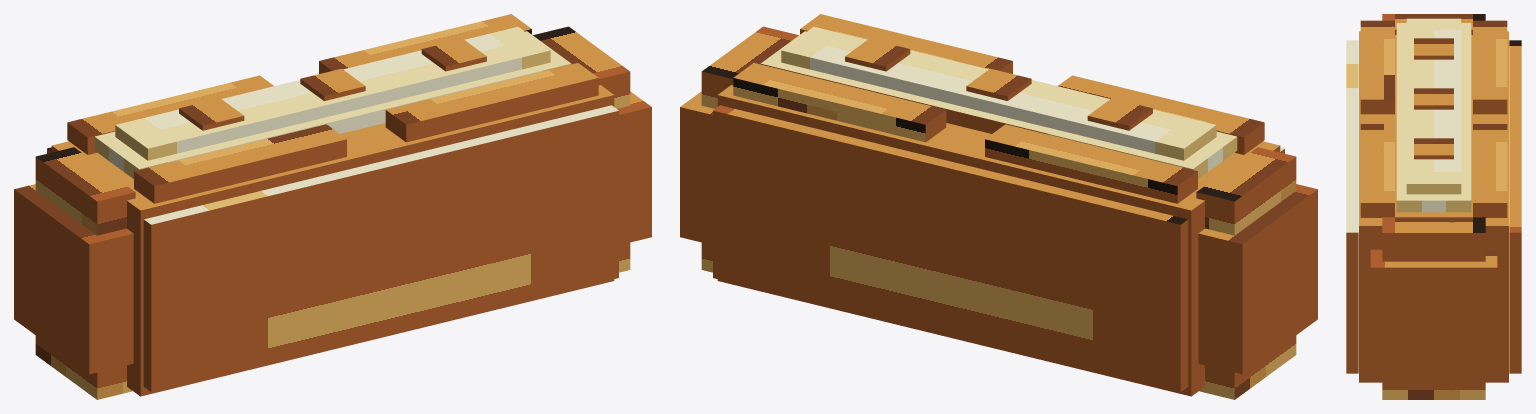
File: bread.gltf
The picture shows the model from 3 angles, left to right: view 1: azimuth 30°, elevation 25°; view 2: azimuth 150°, elevation 25°; view 3: azimuth 270°, elevation 25°; orthographic projection. The views are drawn at different scales.
Visible parts, largest first — view 1: crust, crumb; view 2: crust, crumb; view 3: crust, crumb.
Part boxes in pixels (bbox=[...]): crust: bbox=[14, 14, 651, 399]; crumb: bbox=[94, 27, 571, 178]; crust: bbox=[680, 14, 1317, 399]; crumb: bbox=[760, 27, 1237, 178]; crust: bbox=[1346, 14, 1521, 399]; crumb: bbox=[1396, 18, 1471, 212].
Size of the model in its own units: 1.19 by 0.4637 by 0.3812.
1 material, 1 textured.
